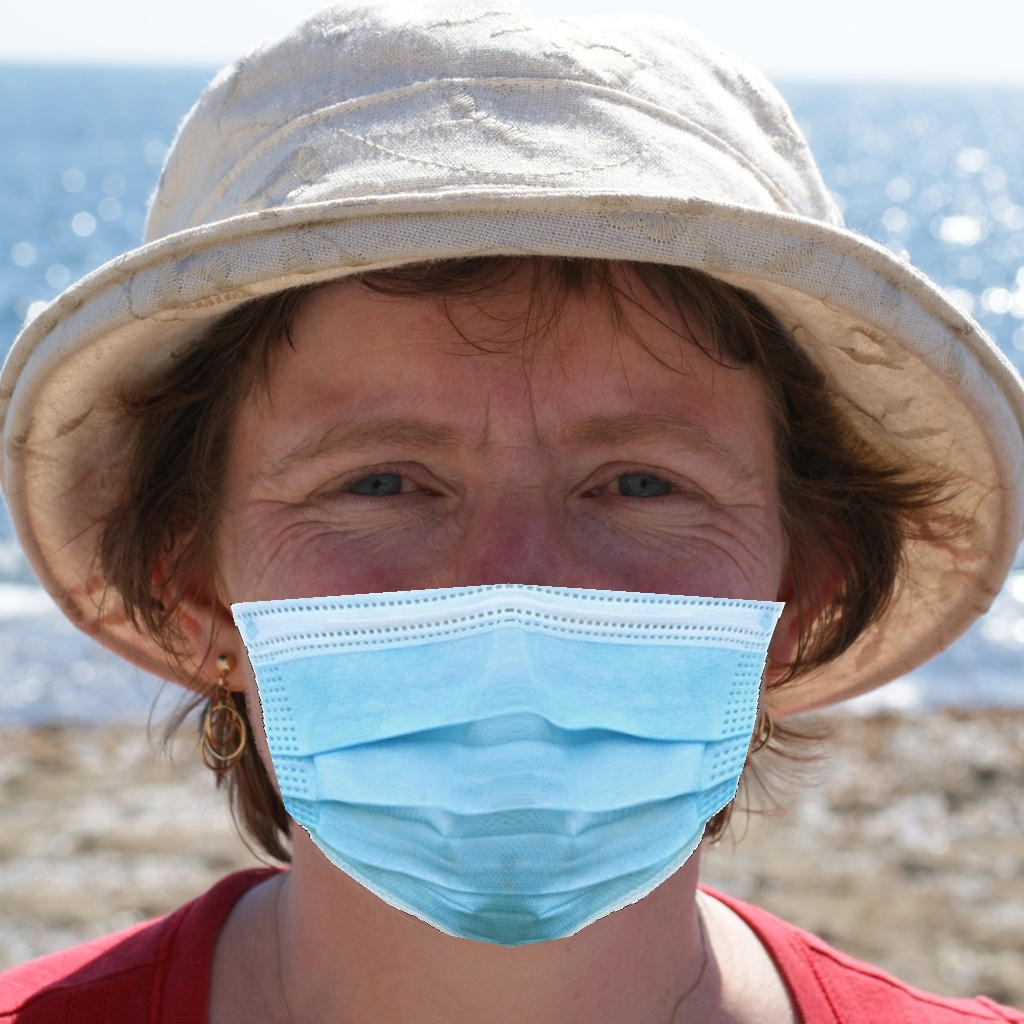Mask: (225, 364, 793, 947)
